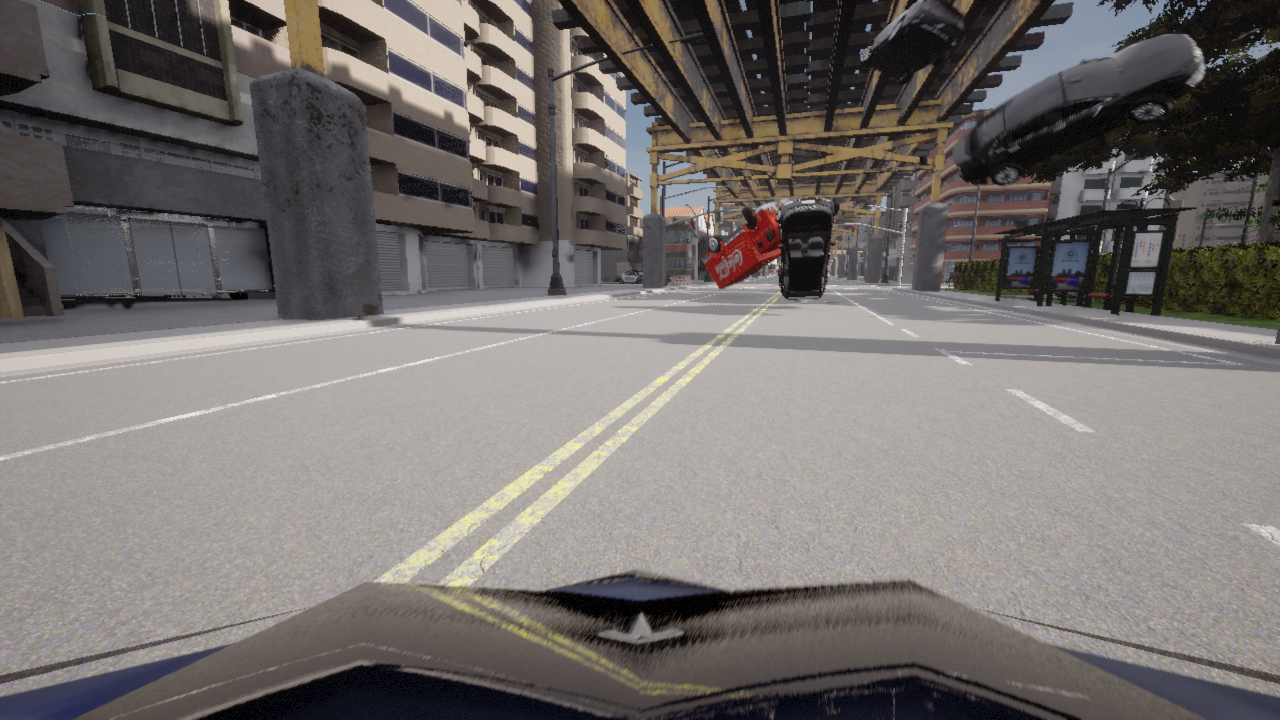cyclist: (0, 569, 1279, 719), (952, 34, 1204, 186), (858, 0, 964, 85), (702, 198, 789, 289), (775, 198, 839, 299), (615, 270, 641, 284), (666, 276, 671, 282)
